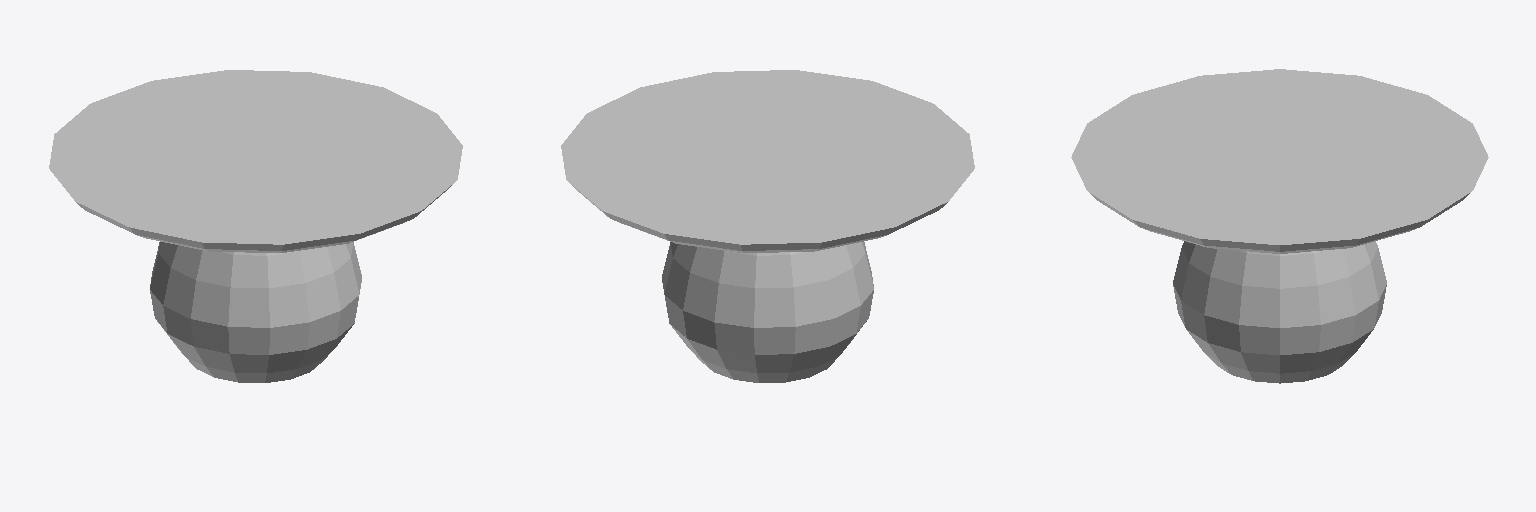
The model's file is coffee table  obj low  .obj.
3 renders of one model, left to right at view 1: azimuth 30°, elevation 25°; view 2: azimuth 150°, elevation 25°; view 3: azimuth 270°, elevation 25°, orthographic.
Visible parts, largest first — view 1: Circle.001, Circle; view 2: Circle.001, Circle; view 3: Circle.001, Circle.
Part boxes in pixels (left/top/right/bottom): Circle.001: left=49, top=70, right=462, bottom=252; Circle: left=150, top=242, right=361, bottom=382; Circle.001: left=561, top=70, right=974, bottom=252; Circle: left=662, top=242, right=873, bottom=382; Circle.001: left=1071, top=69, right=1488, bottom=253; Circle: left=1173, top=241, right=1386, bottom=383.
Bounding box in the file's own units: 0.6872 × 0.3584 × 0.6872.